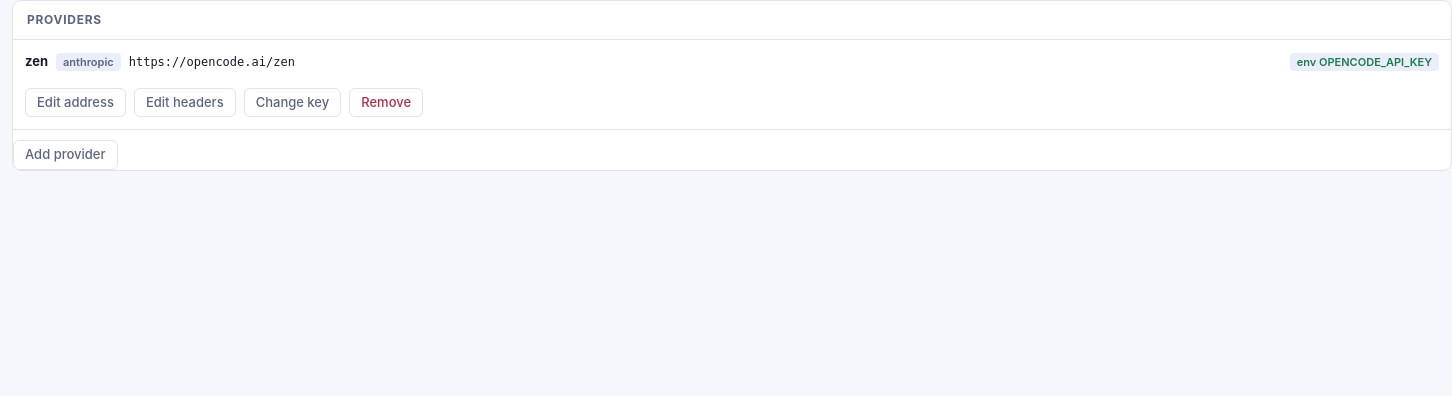
it: Providers — the extra-header editor › says when there are no headers rather than showing an empty list
The width and height of the screenshot is (1452, 396).
Click the button "Edit headers" at [185, 102], box top-left (134, 88), bottom-right (236, 117)
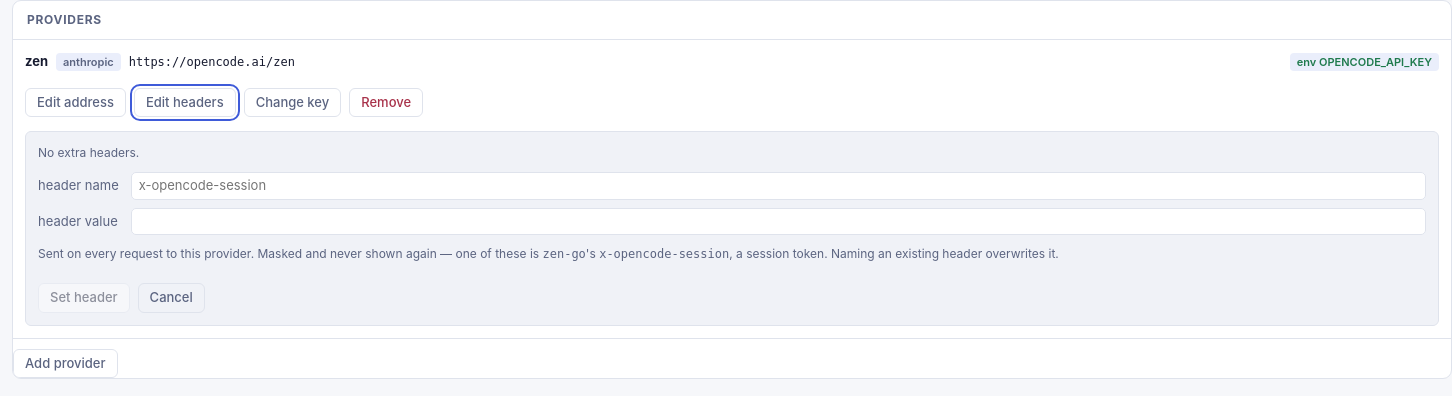
Expected: the text "No extra headers." is shown, top-left (38, 145), bottom-right (139, 160)
